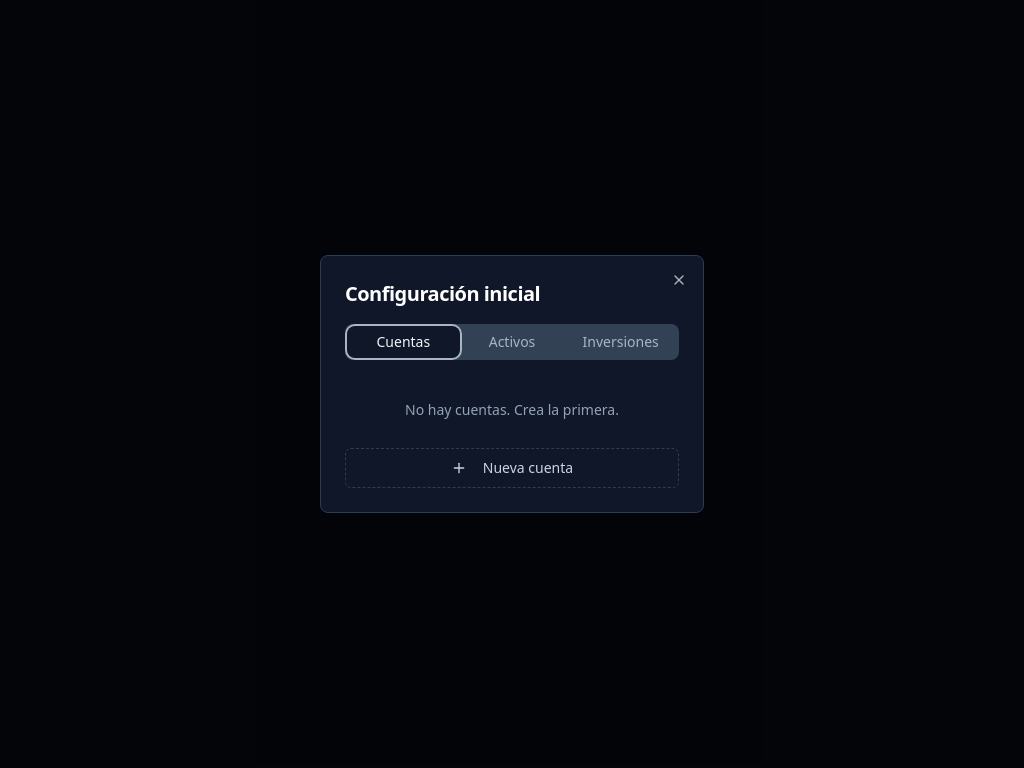
Scenario: AccountsModal – Assets tab › shows confirm delete buttons for an asset
This screenshot has width=1024, height=768.
Click the tab "Activos" at x=512, y=342, box [458, 328, 566, 356]
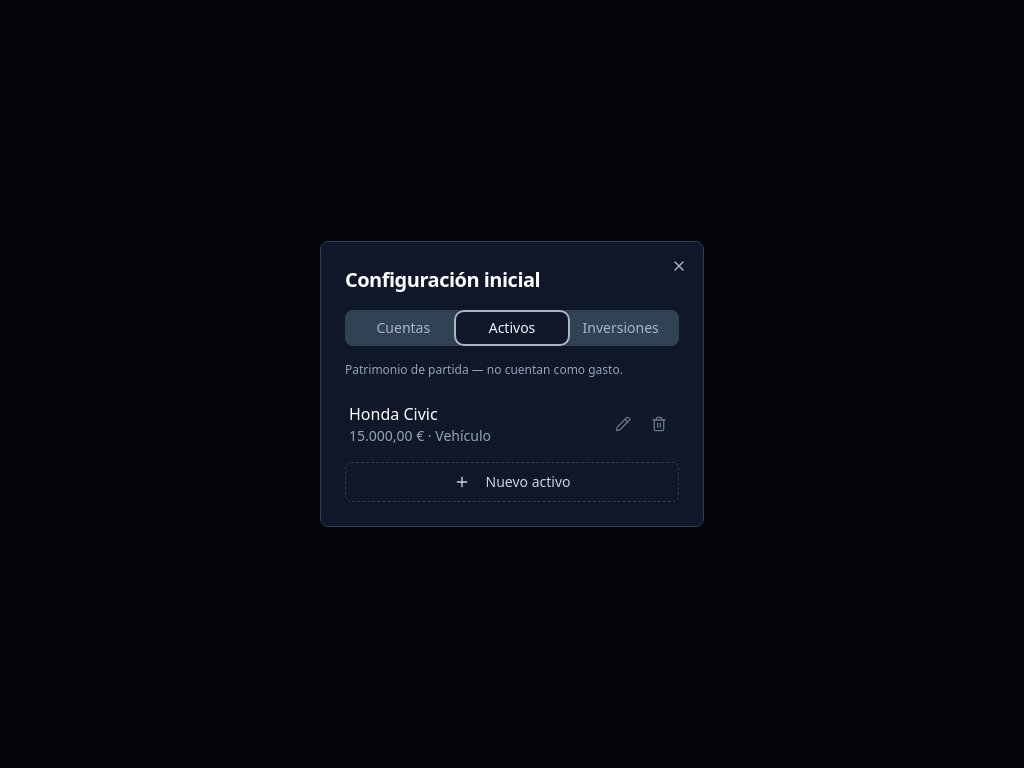
Click the button named "Eliminar Honda Civic" at x=659, y=424, box [643, 408, 675, 440]
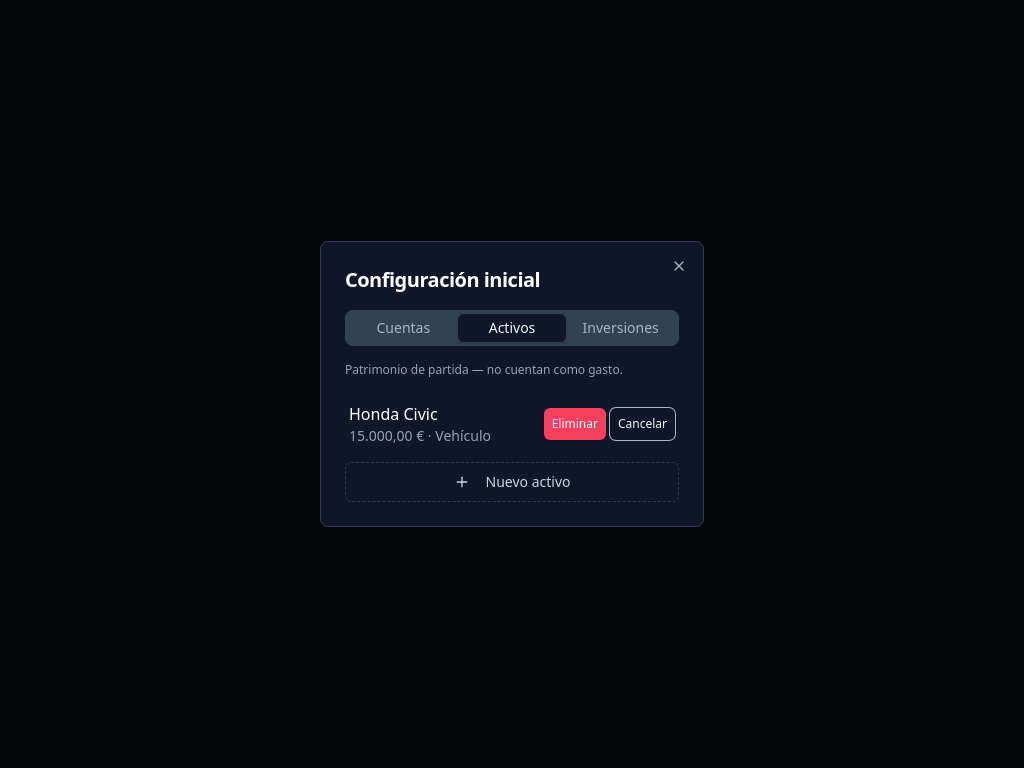
Check: the button with aria-label "Confirmar eliminación de Honda Civic" is shown, box [544, 408, 606, 440]
Check: the button "Cancelar" is shown, box [610, 408, 675, 440]
